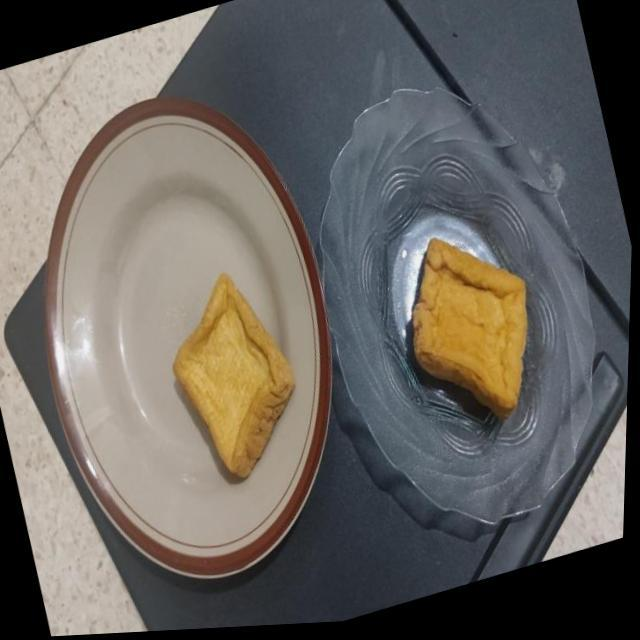tahu_goreng: (172, 273, 294, 477), (412, 237, 526, 418)
